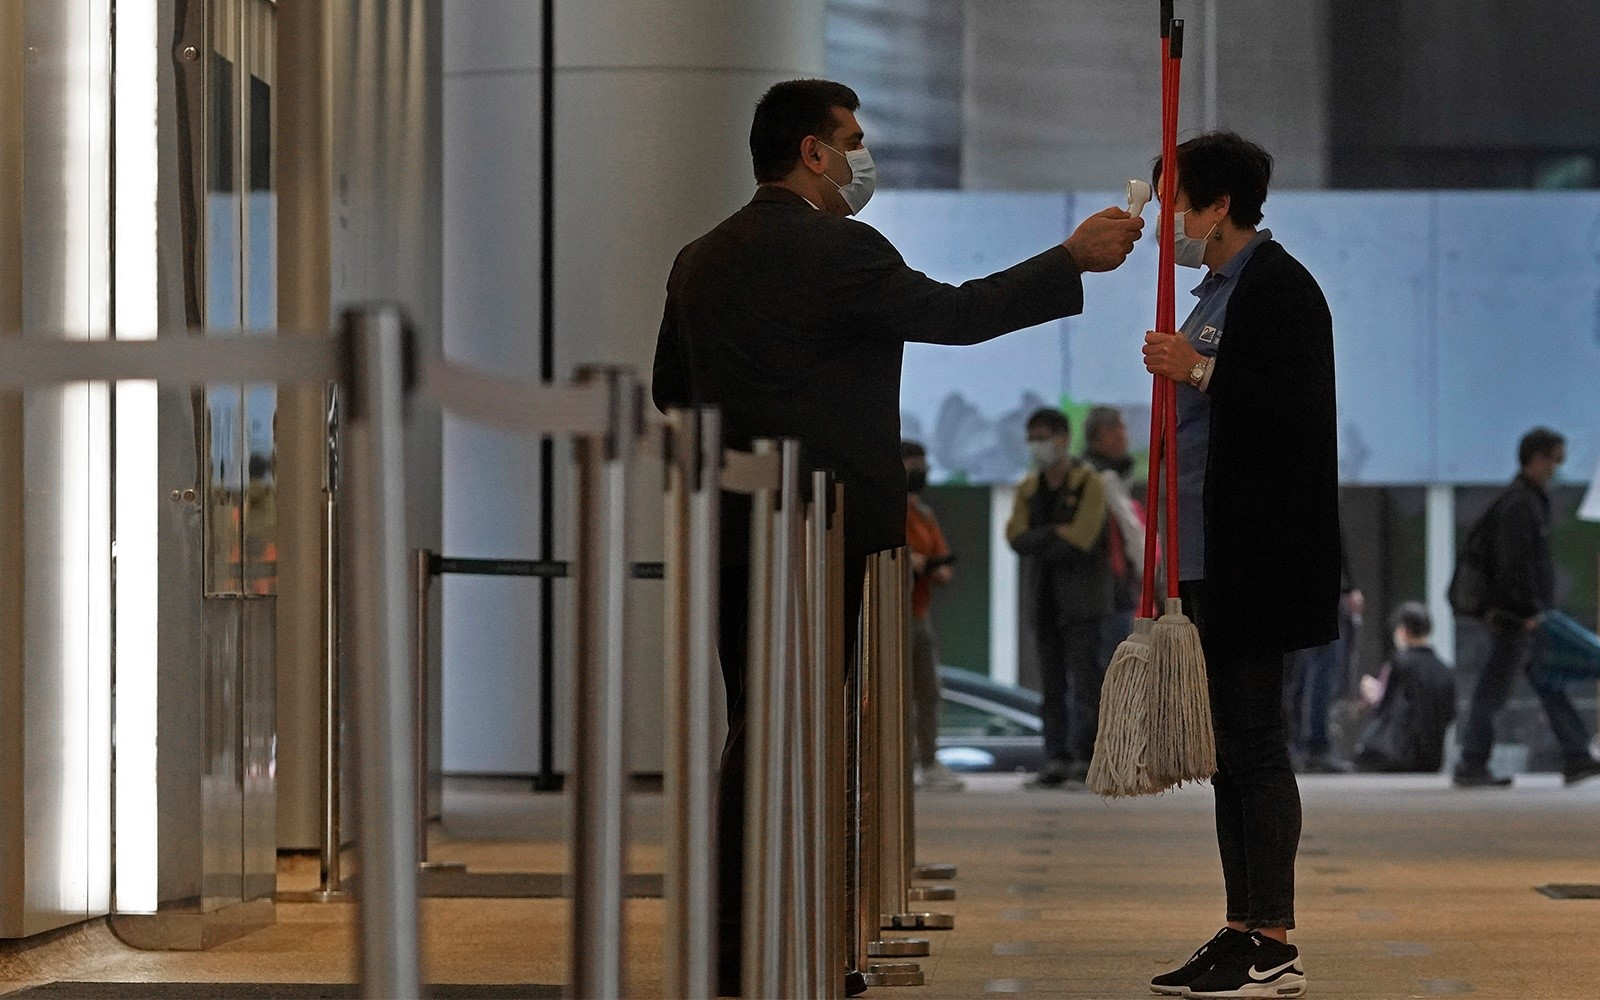face_no_mask: (1086, 402, 1136, 465)
face_with_mask: (749, 74, 879, 219), (1141, 131, 1276, 265), (1516, 425, 1574, 494), (1021, 404, 1074, 473), (900, 436, 932, 498)
